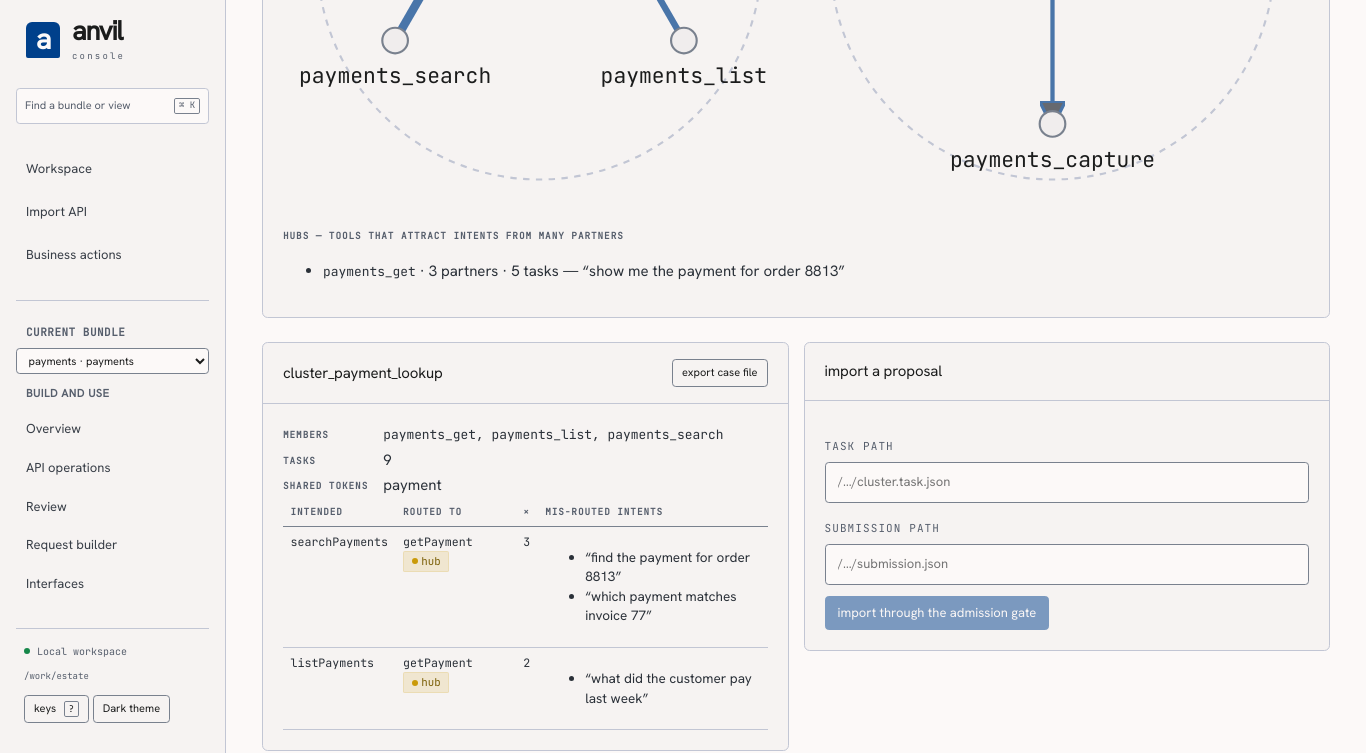
the other views › the confusion explorer exports a case file and shows a refused negative delta with its numbers
(page scrolled)
Click the button "export case file": (720, 373) [672,359,768,387]
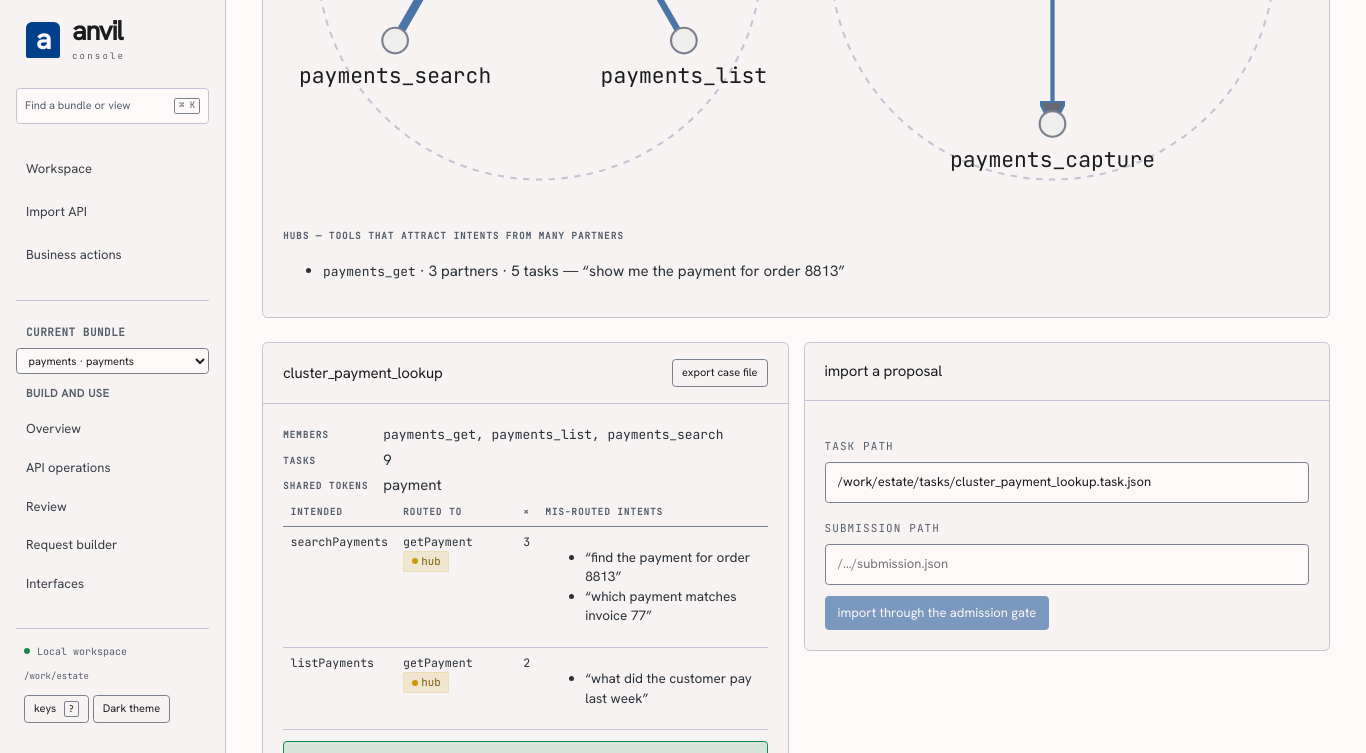
In the field labelled "submission path": (1067, 565) [824,544,1309,585], type "/tmp/regressed.json"
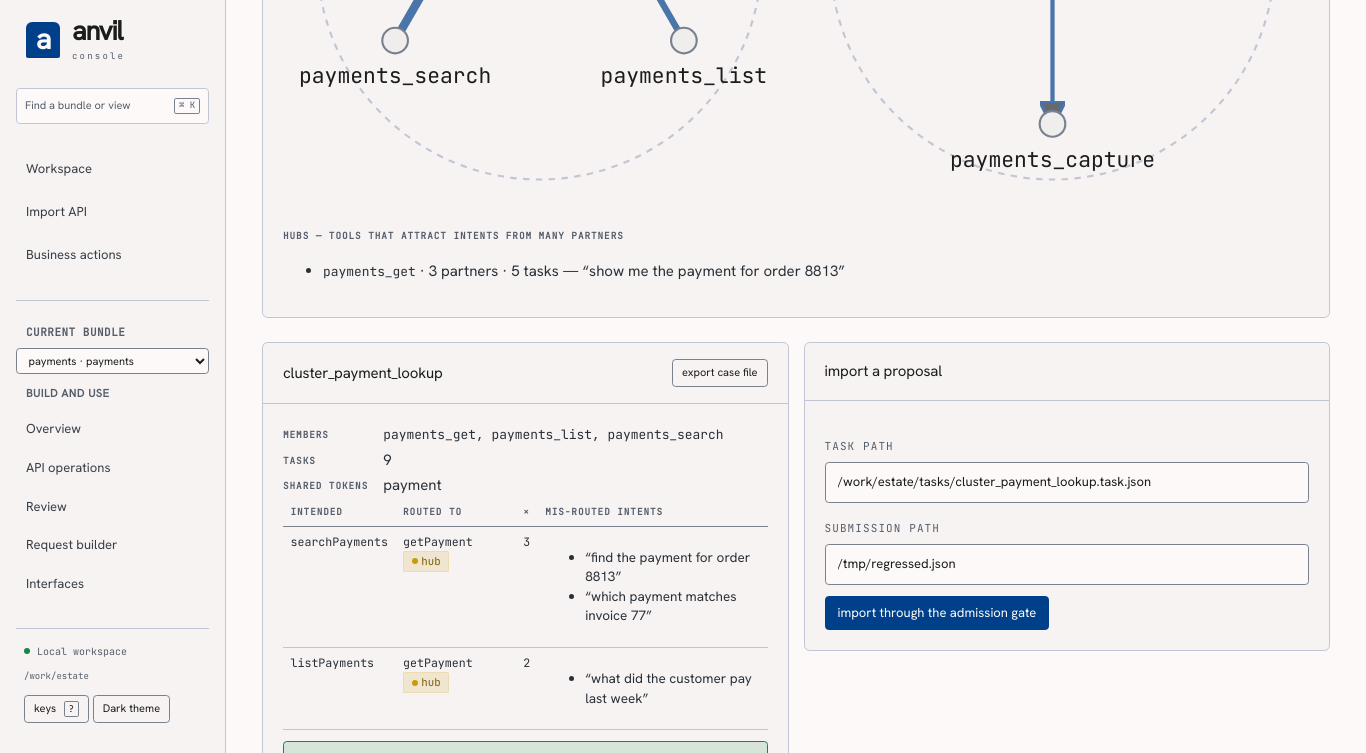
Click the button "import through the admission gate": (937, 613) [824,596,1049,630]
(page scrolled)
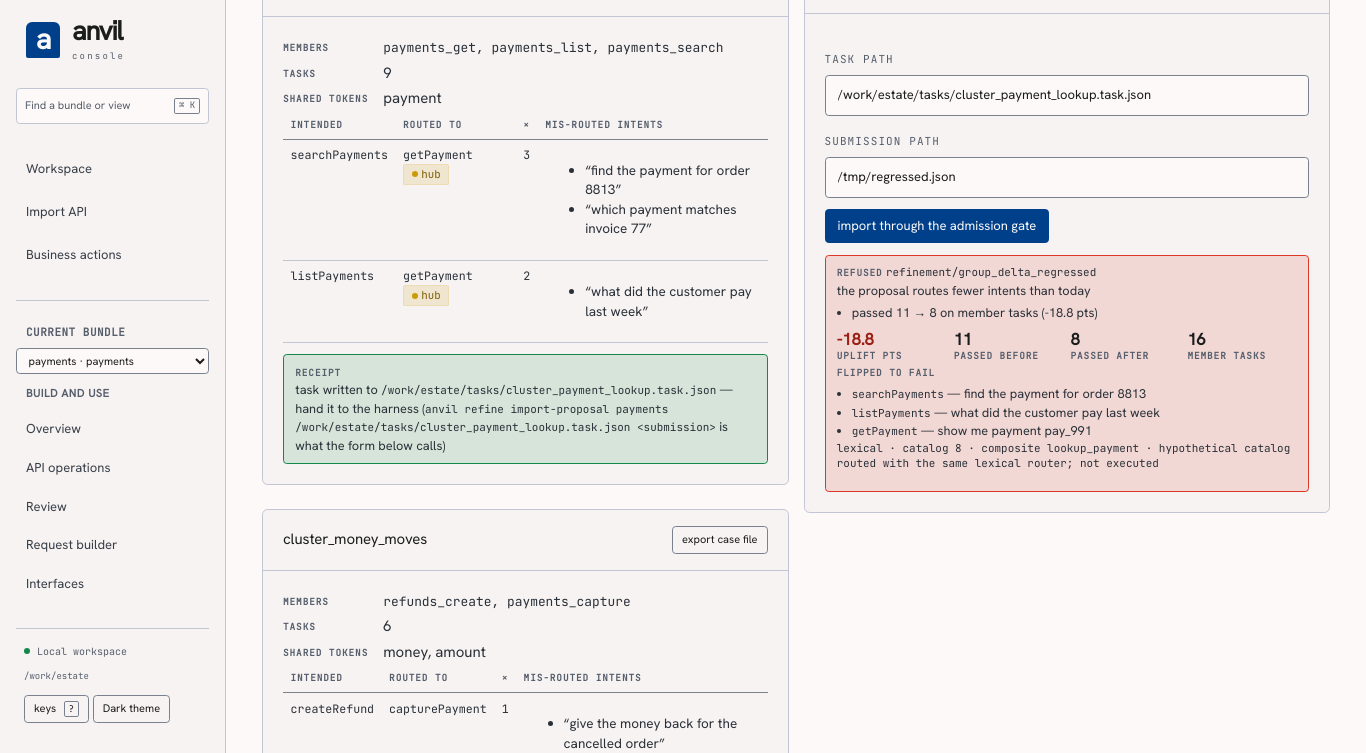
Now the message that starts with "refused" shows "refinement/group_delta_regressed", box [886,265,1096,279]
Now the message that starts with "refused" shows "-18.8", box [852,304,1097,321]
Now the message that starts with "refused" shows "flipped to fail", box [837,366,935,379]
